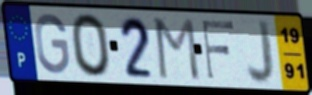2: (118, 13, 159, 83)
F: (200, 19, 236, 82)
G: (33, 12, 72, 76)
J: (245, 17, 277, 87)
M: (153, 16, 202, 83)
O: (68, 12, 113, 80)
